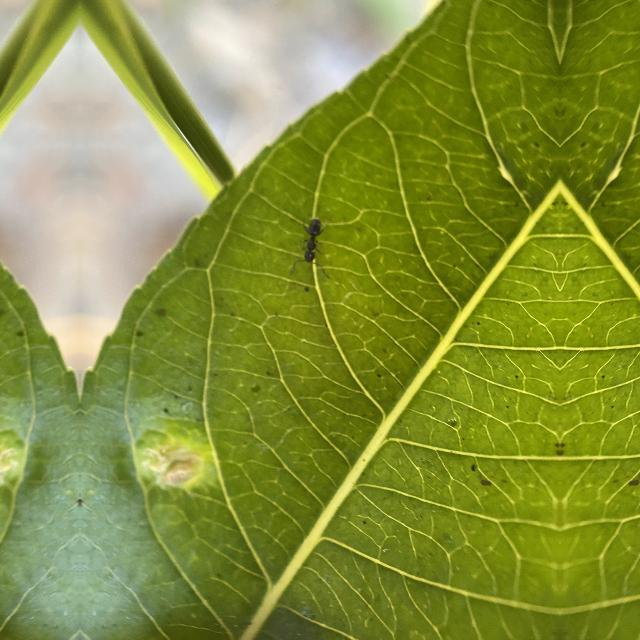Tapinoma: (293, 207, 329, 276)
